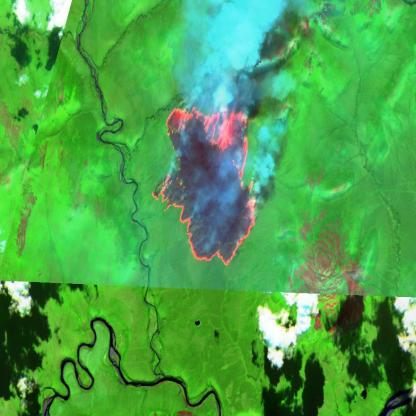fire: (151, 98, 259, 270)
